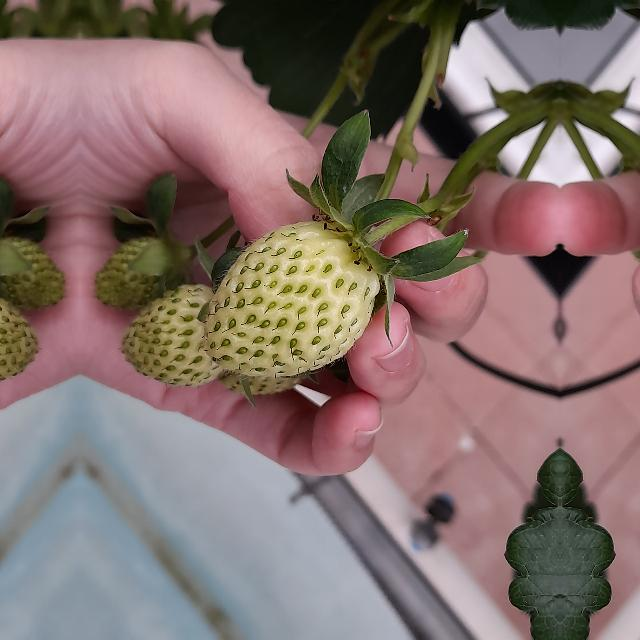Health_25: (203, 220, 379, 378), (123, 284, 227, 388), (91, 224, 190, 308), (0, 224, 68, 308), (0, 284, 37, 388)
